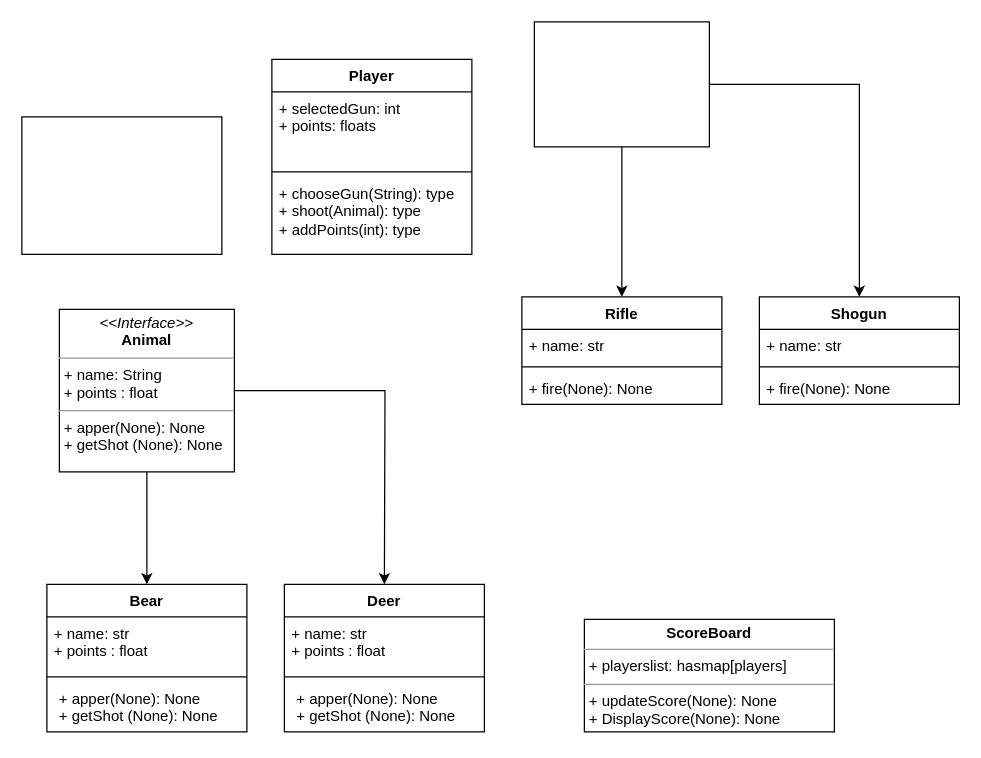
This 981x758 diagram has some shape labels left out. Here are the shapes that lost their labels. From the top down, the centre of each, then its label:
the point at 621,84: <<Interface>> Game + name: String + fire(None): None
the point at 121,185: Game Methods startGame(None) endGame(None) displayScore(None)
